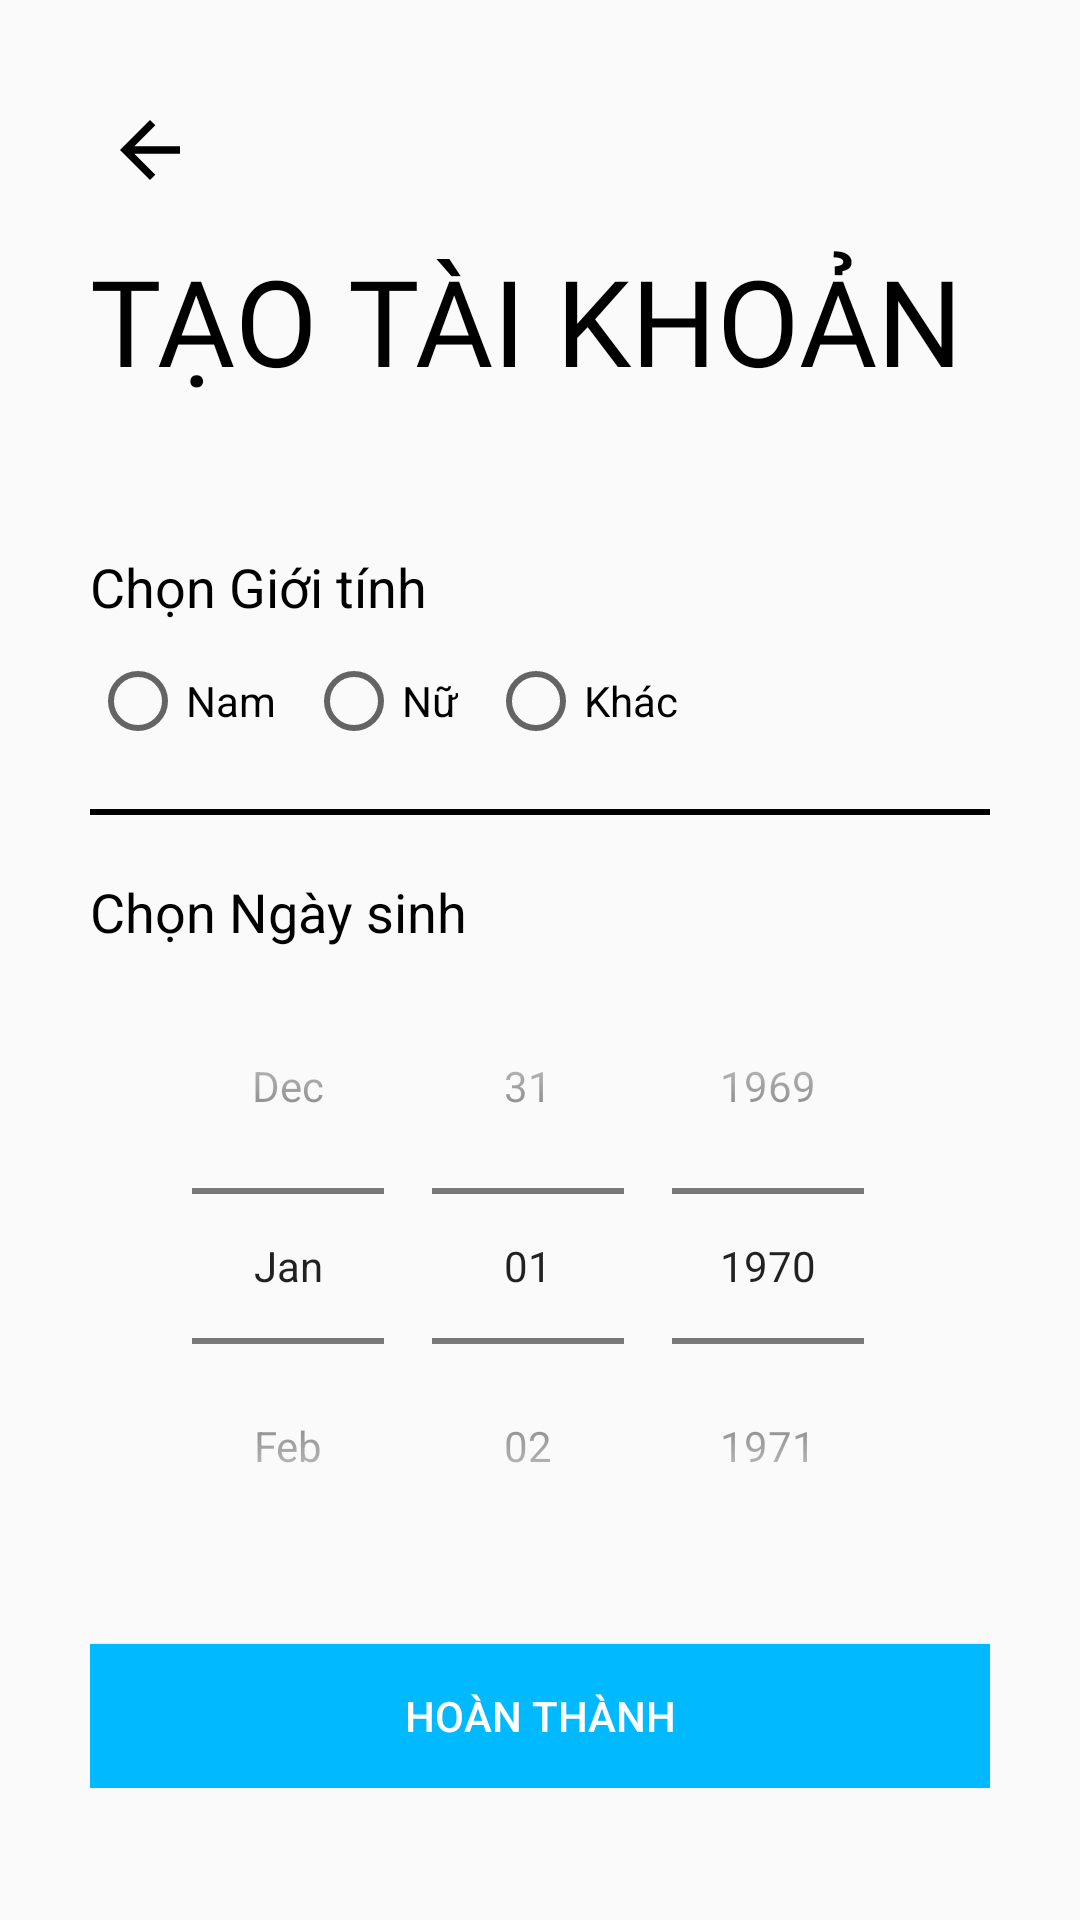

Icon bounding boxes for this 1080px×1920px phone screenshot, format box(x1, y1, x2, y2):
arrow back: box(120, 120, 180, 180)
